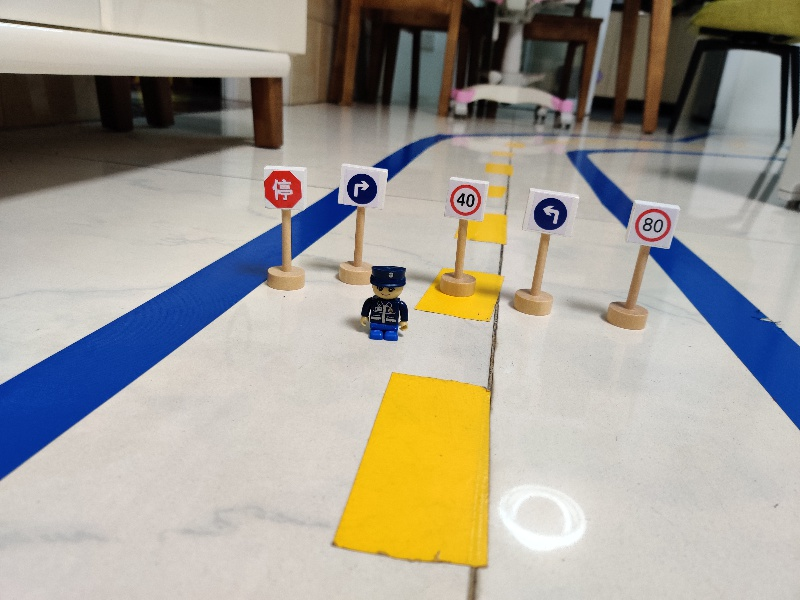limit_40: (442, 175, 491, 222)
limit_80: (624, 198, 681, 250)
person: (357, 262, 411, 345)
stop: (258, 162, 309, 213)
turn_left: (520, 185, 583, 237)
turn_right: (334, 161, 390, 211)
